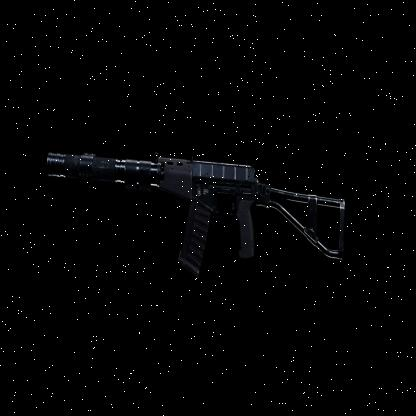rifle: (37, 132, 354, 295)
